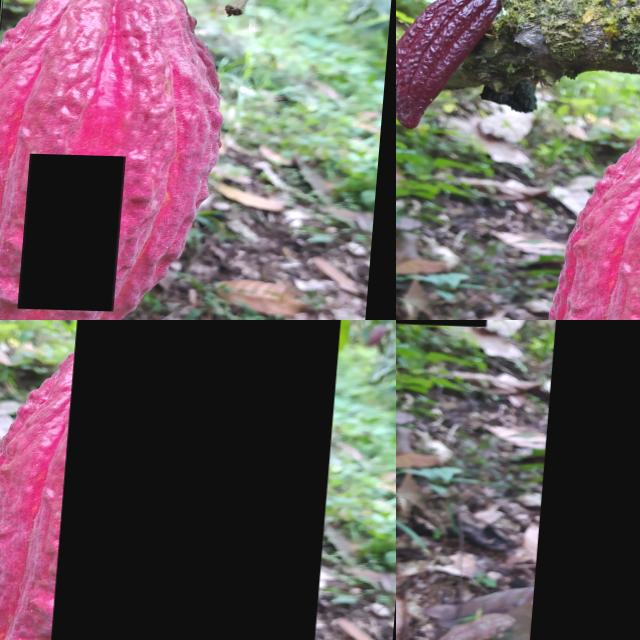Monilia: (26, 152, 131, 309)
Sana: (58, 320, 343, 640), (535, 320, 640, 640)
